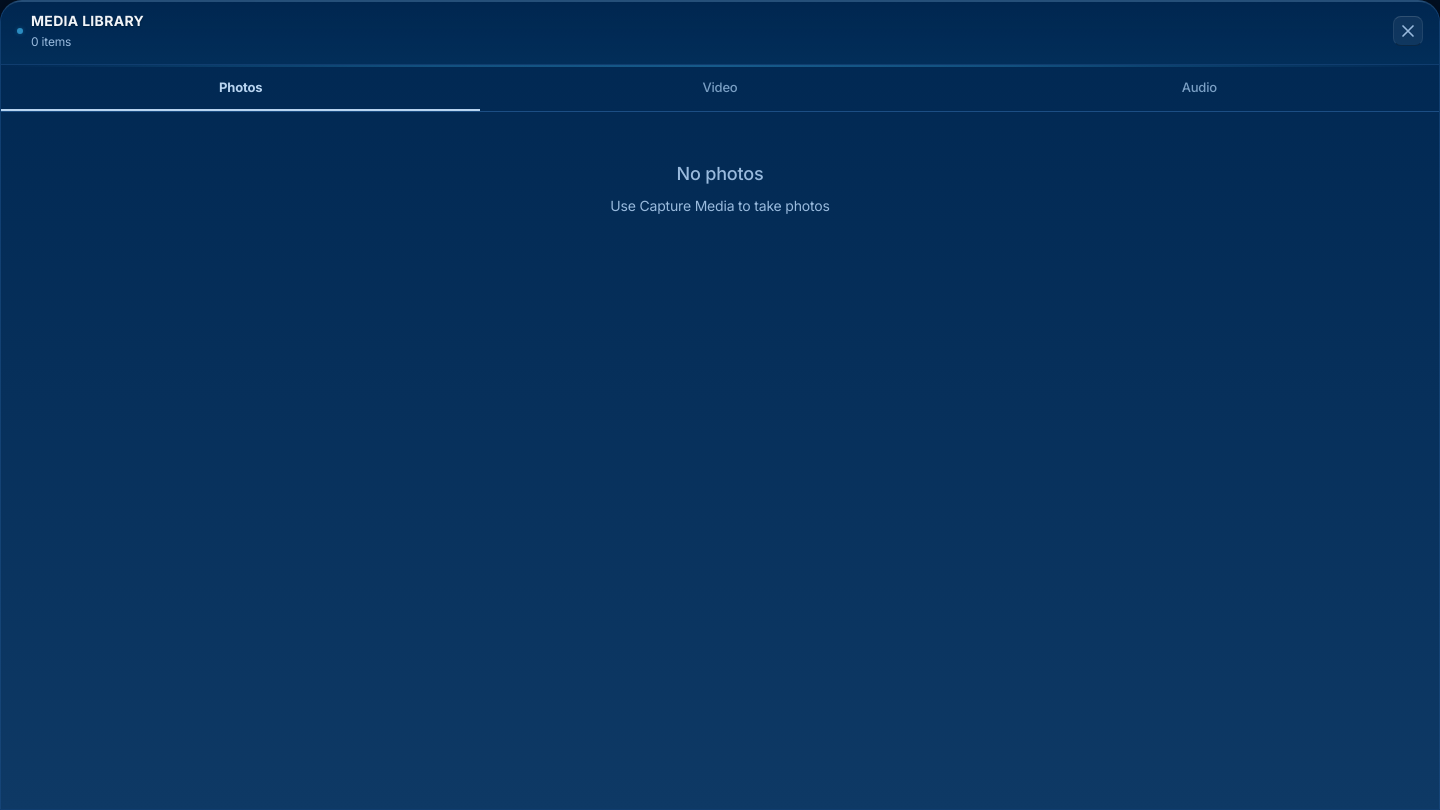
Test case: the empty state (row 62) › shows the active tab’s own message and hint
Expected: the text "No photos" is shown, [676, 160, 764, 187]
Expected: the text "Use Capture Media to take photos" is shown, [610, 195, 830, 217]
Click the button with aria-label "Audio tab, 0 items": (1199, 89) [960, 67, 1439, 111]
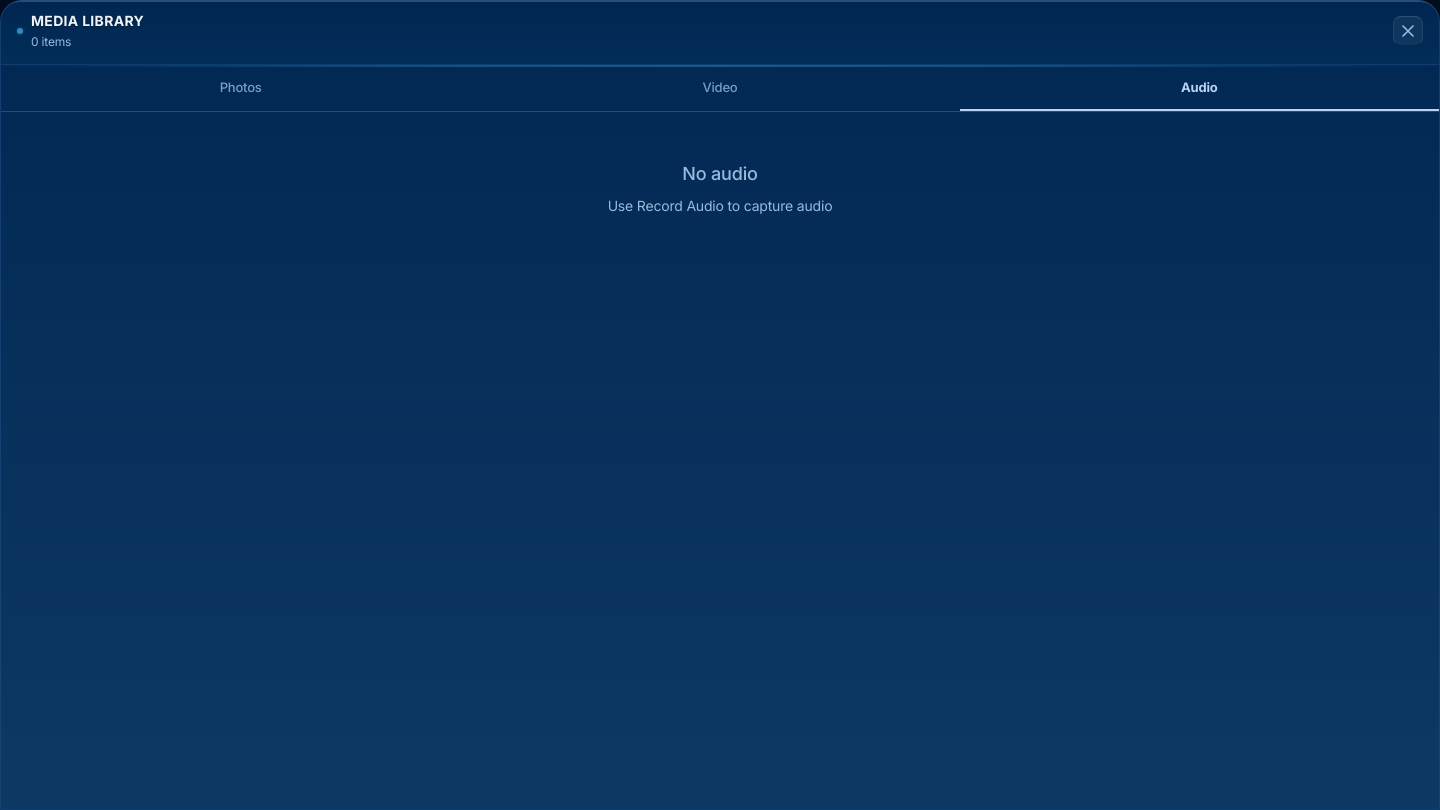
Expected: the text "No audio" is shown, [682, 160, 758, 187]
Expected: the text "Use Record Audio to capture audio" is shown, [608, 195, 832, 217]
